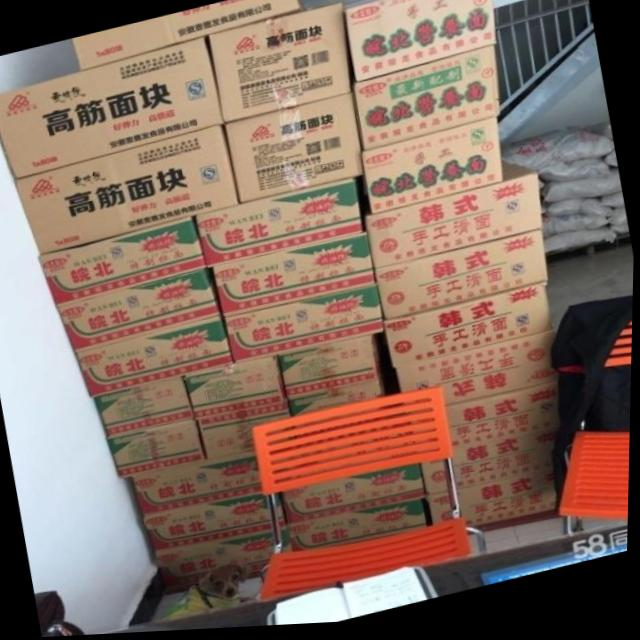box: (0, 40, 227, 180), (16, 127, 240, 254), (366, 166, 544, 273), (207, 2, 353, 125), (71, 0, 302, 72), (375, 234, 550, 325), (355, 49, 501, 155), (227, 96, 365, 208), (40, 219, 209, 309), (197, 181, 365, 271), (386, 288, 553, 371), (214, 236, 377, 320), (59, 270, 220, 354), (363, 123, 504, 218), (342, 0, 498, 85), (77, 317, 236, 398), (226, 287, 386, 367), (397, 336, 560, 412), (422, 431, 563, 499), (282, 467, 427, 528), (135, 452, 266, 519), (146, 494, 276, 557), (446, 386, 565, 454), (158, 533, 276, 598), (432, 474, 560, 532), (291, 502, 431, 555), (186, 359, 288, 423), (108, 420, 208, 481), (94, 378, 195, 438), (201, 403, 292, 462), (280, 338, 380, 389), (287, 369, 388, 419)
